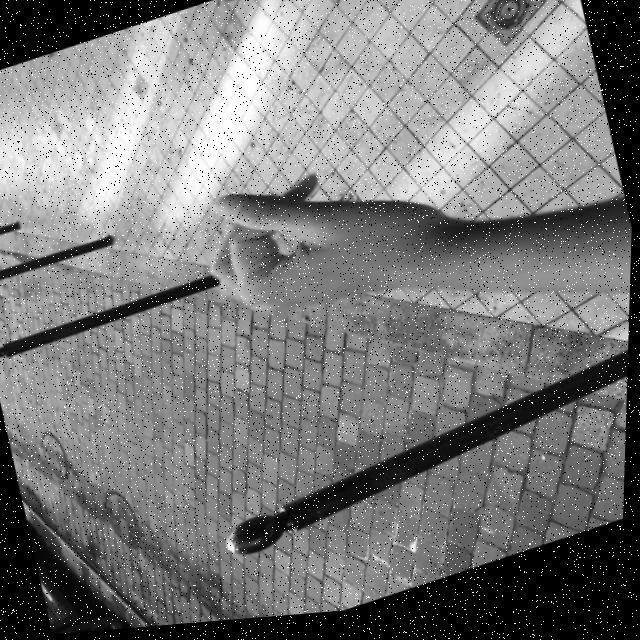no-gloves: (187, 131, 457, 349)
